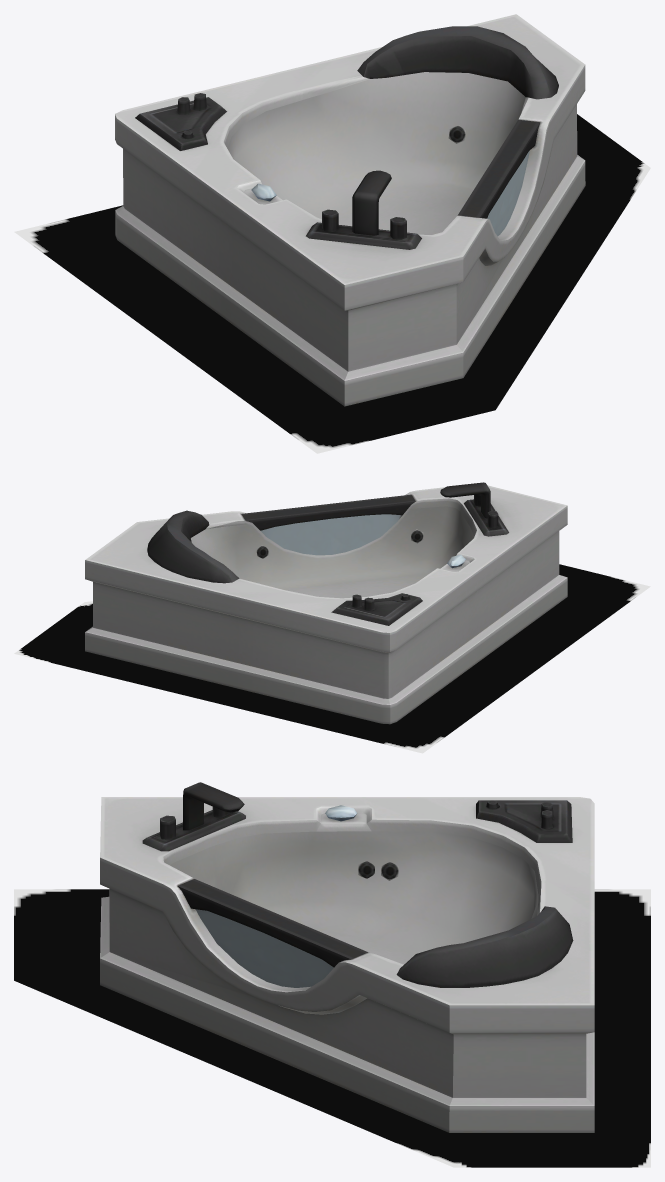
File: jj_ty_bathtubs03_01.FBX
3 views of the same model, one above another, from view 1: azimuth 30°, elevation 25°; view 2: azimuth 150°, elevation 25°; view 3: azimuth 270°, elevation 25° (orthographic). The views are drawn at different scales.
Parts seen in each view (by area): view 1: jj_ty_bathtubs03_01, yinying; view 2: jj_ty_bathtubs03_01, yinying; view 3: jj_ty_bathtubs03_01, yinying.
Part boxes in pixels (x1=…): jj_ty_bathtubs03_01: x1=115, y1=14, x2=585, y2=406; yinying: x1=14, y1=114, x2=650, y2=453; jj_ty_bathtubs03_01: x1=85, y1=482, x2=567, y2=724; yinying: x1=14, y1=564, x2=650, y2=753; jj_ty_bathtubs03_01: x1=100, y1=782, x2=594, y2=1132; yinying: x1=14, y1=889, x2=650, y2=1167.
Bounding box in the file's own units: 126 × 36.49 × 122.
Materials: 2 (2 with a texture image).
